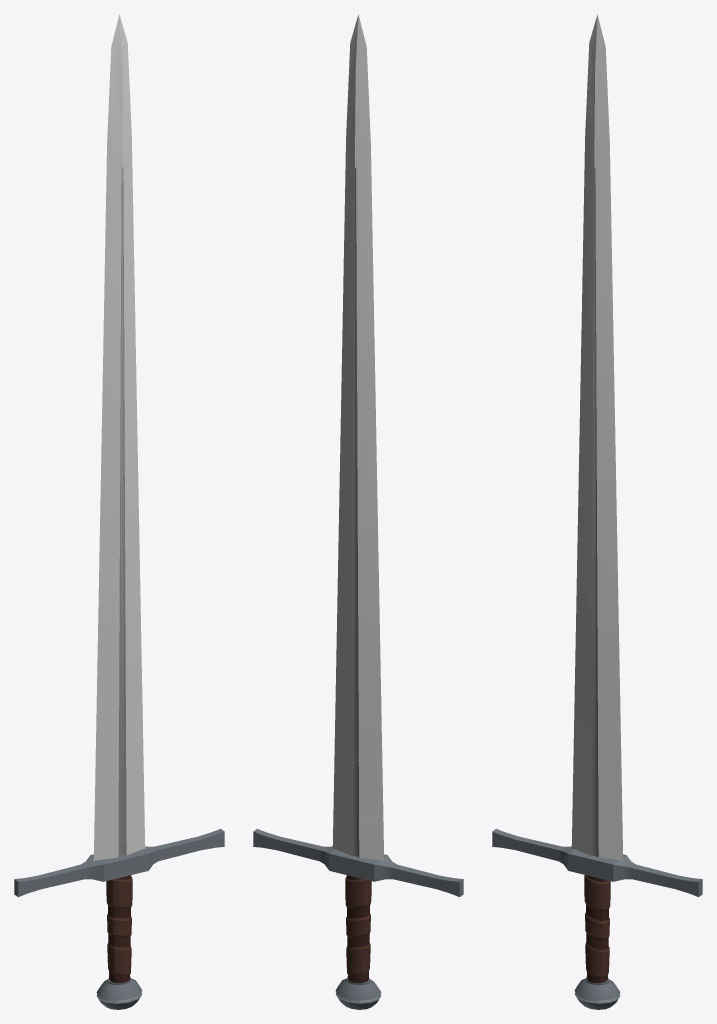
The model's file is SM_Sword01_ArmingSword_3Silver.fbx.
The picture shows the model from 3 angles, left to right: view 1: azimuth 30°, elevation 25°; view 2: azimuth 150°, elevation 25°; view 3: azimuth 330°, elevation 25°; orthographic projection.
Parts seen in each view (by area): view 1: Cube.423, Cube.424, Cylinder.521, Sphere.148; view 2: Cube.423, Cube.424, Cylinder.521, Sphere.148; view 3: Cube.423, Cube.424, Cylinder.521, Sphere.148.
Boxes of the visible parts, box(x1,y1,x2,y2) form: Cube.423: box(93, 14, 145, 861); Cube.424: box(14, 828, 224, 897); Cylinder.521: box(106, 875, 132, 983); Sphere.148: box(96, 976, 142, 1009); Cube.423: box(332, 14, 384, 861); Cube.424: box(253, 828, 463, 897); Cylinder.521: box(345, 875, 371, 983); Sphere.148: box(335, 976, 381, 1009); Cube.423: box(571, 14, 623, 861); Cube.424: box(492, 828, 702, 897); Cylinder.521: box(584, 875, 610, 983); Sphere.148: box(574, 976, 620, 1009).
Size of the model in its own units: 0.2 by 0.9179 by 0.0351.
